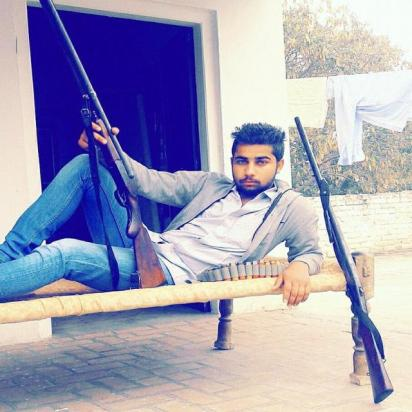Gun: (39, 0, 170, 291), (293, 116, 396, 405)
